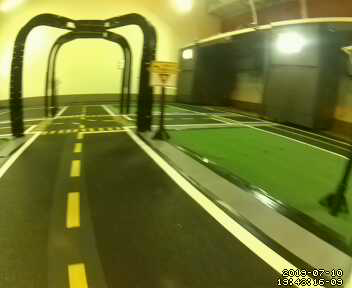Turn Yield: (150, 60, 179, 89)
